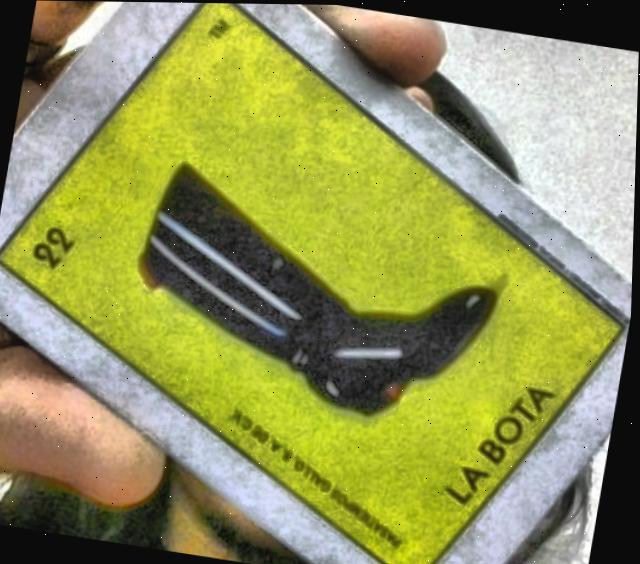La Bota: (1, 2, 628, 564)
